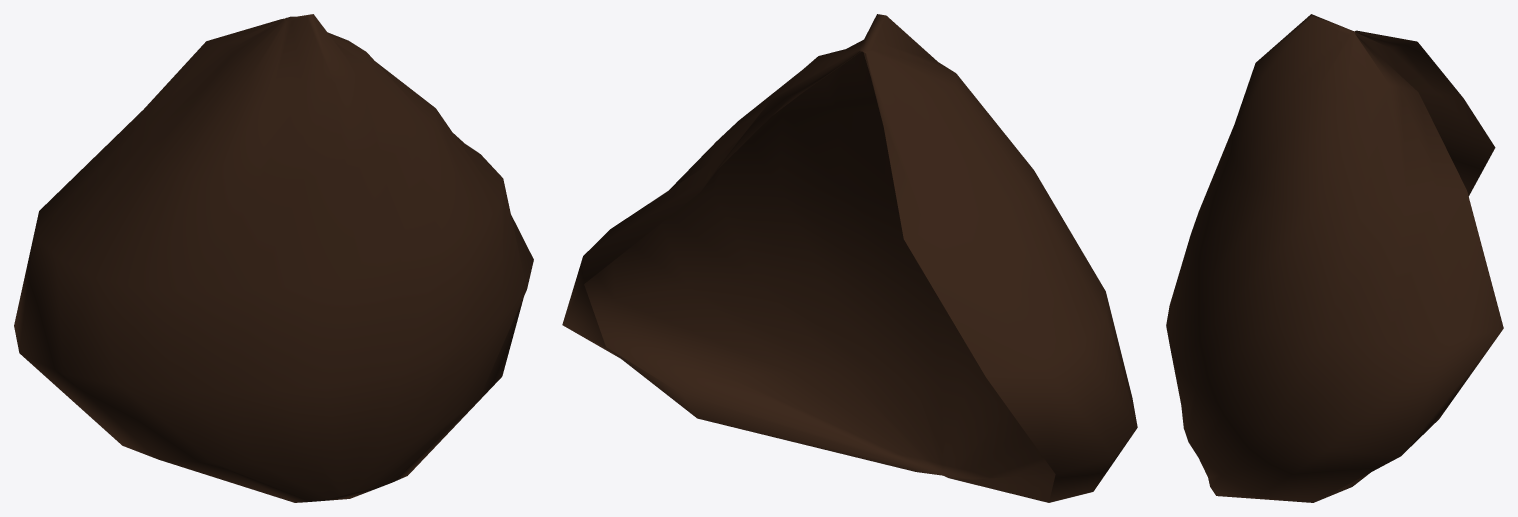
Rendered from abdomen_7_tergite.obj.
3 renders of one model, left to right at view 1: azimuth 30°, elevation 25°; view 2: azimuth 150°, elevation 25°; view 3: azimuth 270°, elevation 25°, orthographic. The views are drawn at different scales.
Size of the model in its own units: 0.0579 by 0.05 by 0.0331.
